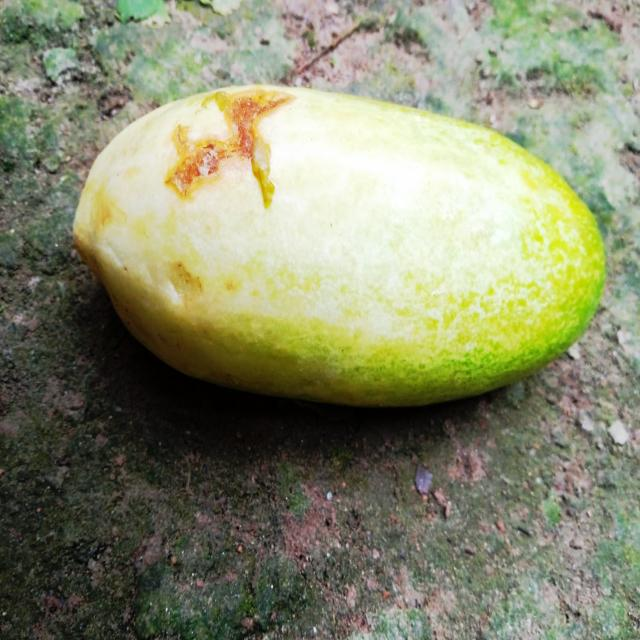Belly-Rot: (160, 70, 299, 220), (160, 245, 213, 313)
